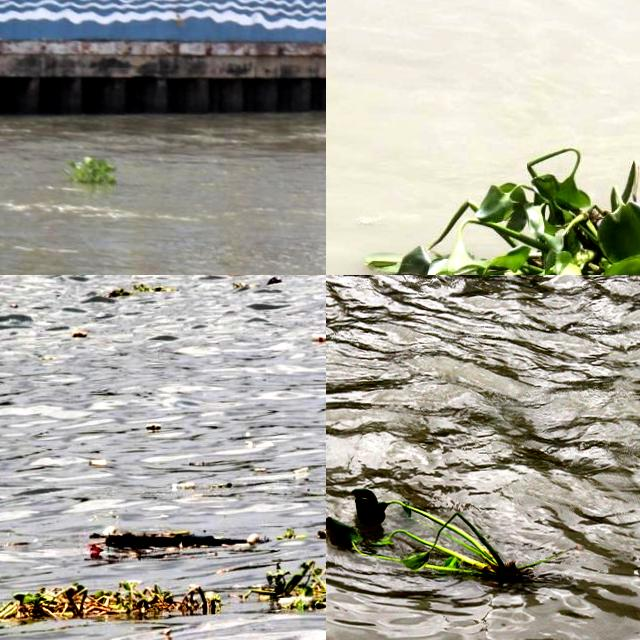water-hyacinth: (327, 140, 640, 276), (327, 485, 516, 579), (1, 576, 226, 623), (255, 539, 327, 610), (60, 152, 123, 190)
